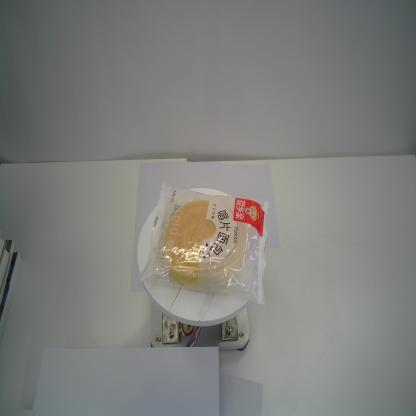Dessert: (140, 181, 272, 307)
